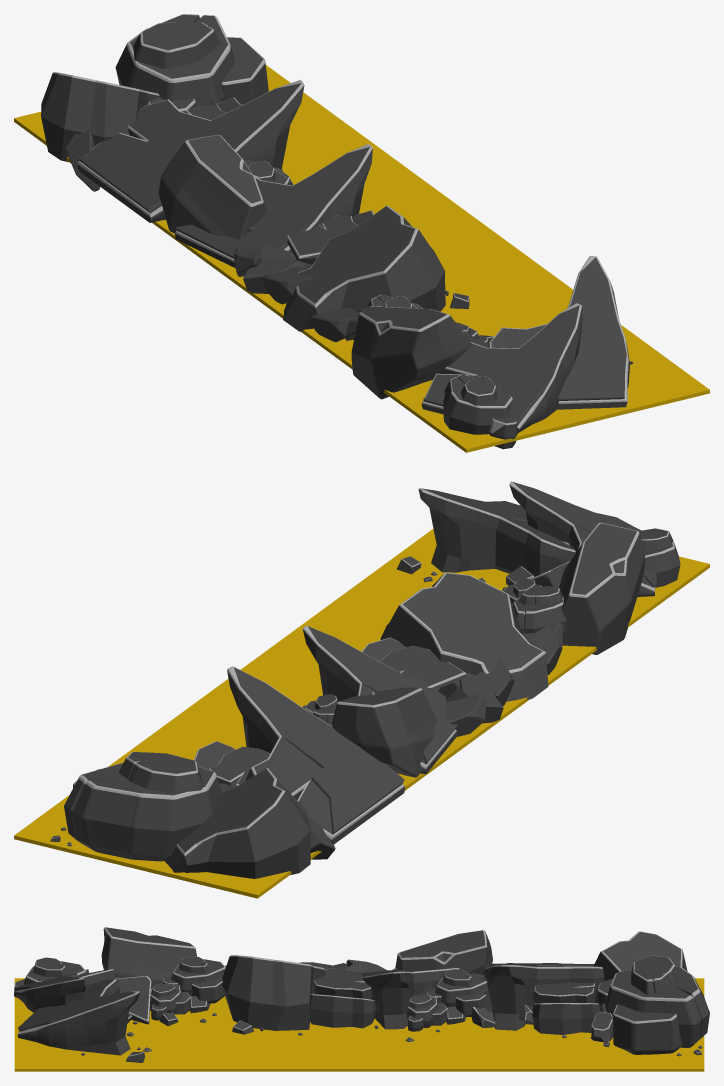
Rendered from Pebble's Road Section 01 Old.fbx.
3 views of the same model, one above another, from view 1: azimuth 30°, elevation 25°; view 2: azimuth 150°, elevation 25°; view 3: azimuth 270°, elevation 25° (orthographic). The views are drawn at different scales.
Visible parts, largest first — view 1: Ground, Rock_02, Rock_07 (2*, Rock_10, Rock_15, Rock_14, Rock_13, Rock_13 (3*, Rock_16, Rock_07, Rock_12 (×4), Rock_10 (3- (+1 smaller); view 2: Ground, Rock_02, Rock_10, Rock_07 (2*, Rock_07, Rock_16, Rock_13 (3*, Rock_13, Rock_14, Rock_12 (×5), Rock_15, Rock_04 (1- (+4 smaller); view 3: Ground, Rock_10, Rock_07 (2*, Rock_16, Rock_02, Rock_13 (3*, Rock_13, Rock_14, Rock_07, Rock_15, Rock_04 (1,, Rock_10 (3, (+12 smaller).
Part boxes in pixels (x1,y1,x2,y2): Ground: [14, 65, 709, 452]; Rock_02: [77, 80, 304, 222]; Rock_07 (2*: [283, 205, 445, 331]; Rock_10: [115, 14, 268, 112]; Rock_15: [421, 303, 582, 433]; Rock_14: [175, 144, 372, 267]; Rock_13: [158, 134, 266, 239]; Rock_13 (3*: [351, 306, 472, 399]; Rock_16: [488, 256, 629, 409]; Rock_07: [41, 72, 159, 161]; Rock_12 (×4): [65, 127, 359, 342]; Rock_10 (3-: [443, 374, 517, 449]; Ground: [14, 528, 709, 898]; Rock_02: [227, 666, 405, 844]; Rock_10: [64, 752, 234, 861]; Rock_07 (2*: [380, 572, 548, 701]; Rock_07: [165, 768, 310, 878]; Rock_16: [418, 488, 575, 576]; Rock_13 (3*: [559, 522, 644, 654]; Rock_13: [332, 687, 436, 777]; Rock_14: [302, 625, 457, 773]; Rock_12 (×5): [305, 625, 562, 859]; Rock_15: [509, 481, 656, 596]; Rock_04 (1-: [379, 645, 466, 689]; Ground: [14, 978, 704, 1071]; Rock_10: [597, 955, 709, 1054]; Rock_07 (2*: [222, 955, 325, 1030]; Rock_16: [17, 979, 139, 1055]; Rock_02: [483, 963, 604, 1030]; Rock_13 (3*: [101, 927, 196, 988]; Rock_13: [395, 930, 492, 974]; Rock_14: [361, 967, 459, 1029]; Rock_07: [593, 931, 687, 981]; Rock_15: [14, 969, 114, 1012]; Rock_04 (1,: [309, 994, 375, 1028]; Rock_10 (3,: [163, 956, 225, 1003].
Size of the model in its own units: 7242 by 3128 by 22704.
